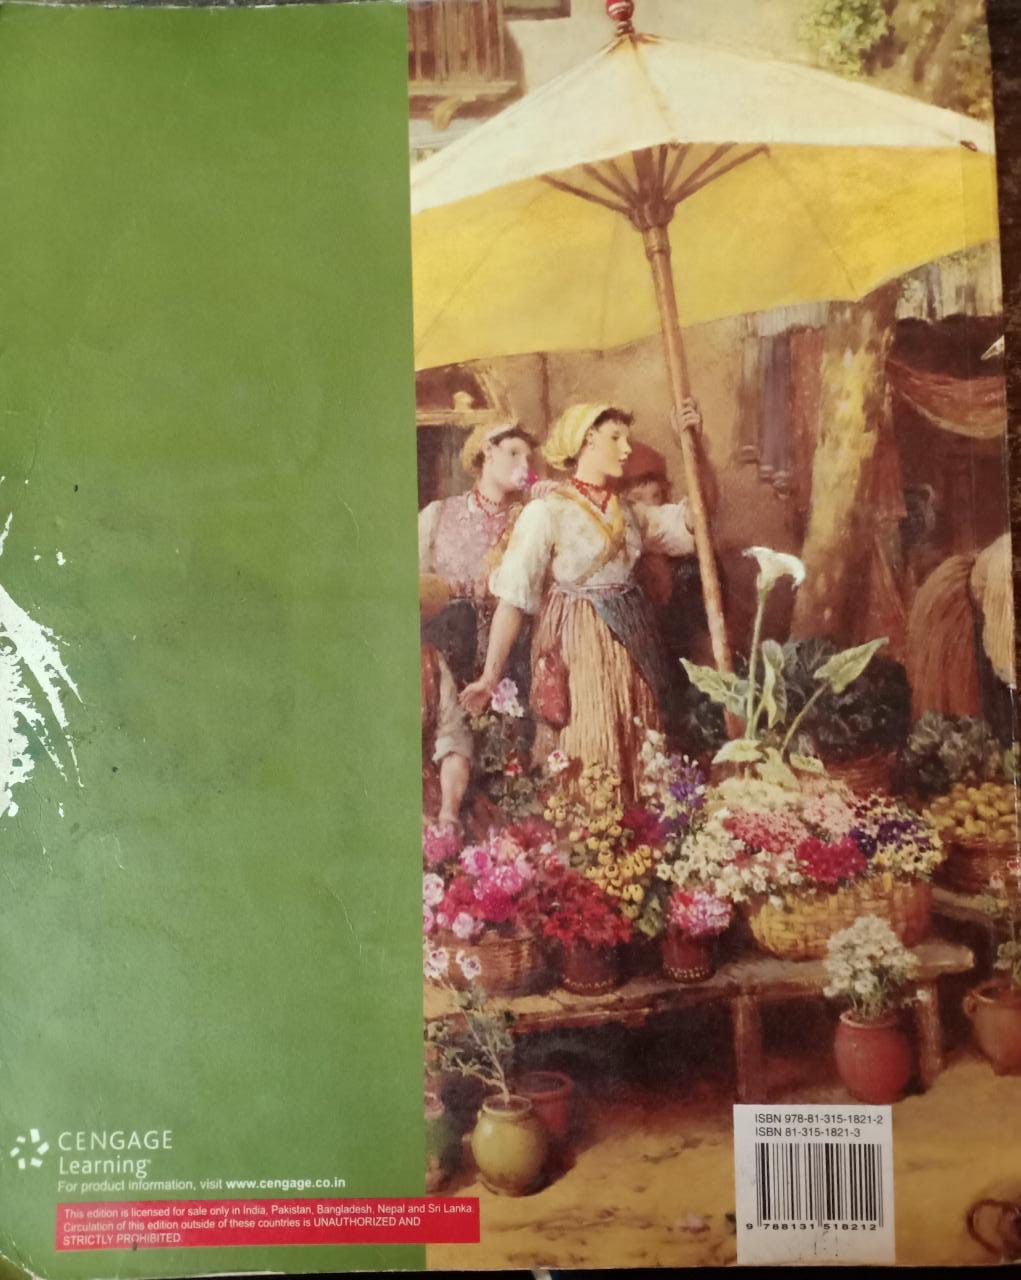barcode: (741, 1103, 889, 1257)
